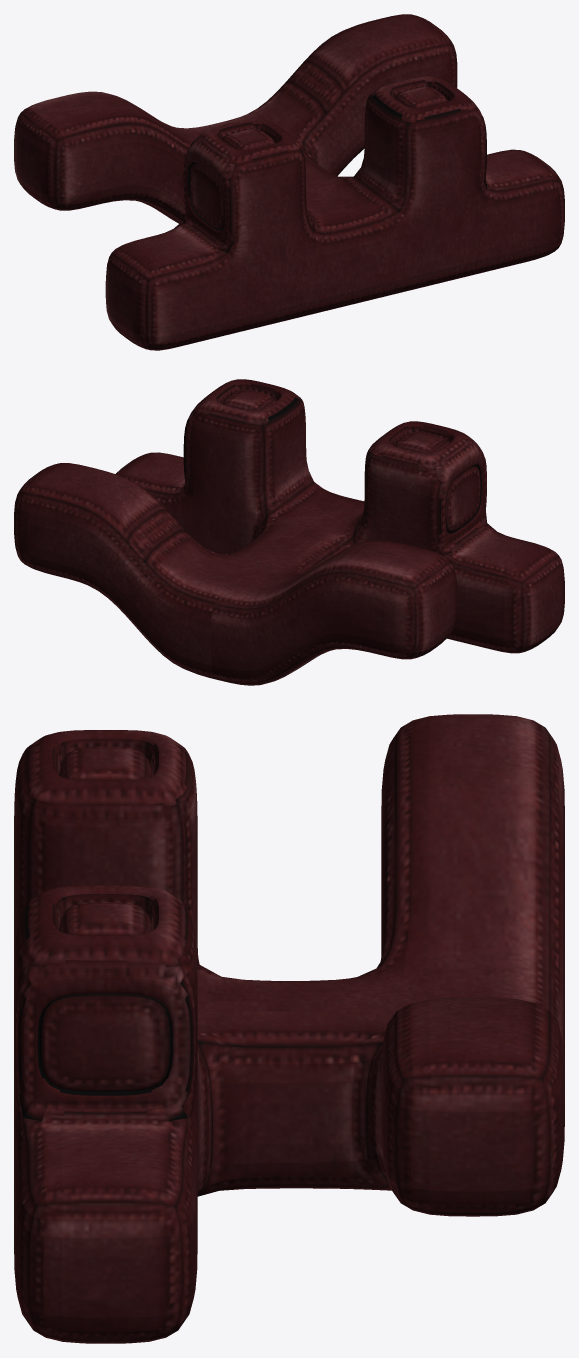
Rendered from sofa.glb.
3 views of the same model, one above another, from view 1: azimuth 30°, elevation 25°; view 2: azimuth 150°, elevation 25°; view 3: azimuth 270°, elevation 25° (orthographic). The views are drawn at different scales.
Visible parts, largest first — view 1: Cube; view 2: Cube; view 3: Cube.
Boxes of the visible parts, box(x1,y1,x2,y2) form: Cube: box(14, 14, 564, 350); Cube: box(14, 379, 564, 685); Cube: box(14, 714, 564, 1343).
Bounding box in the file's own units: 10 × 4 × 6.
Materials: 1 (1 with a texture image).
